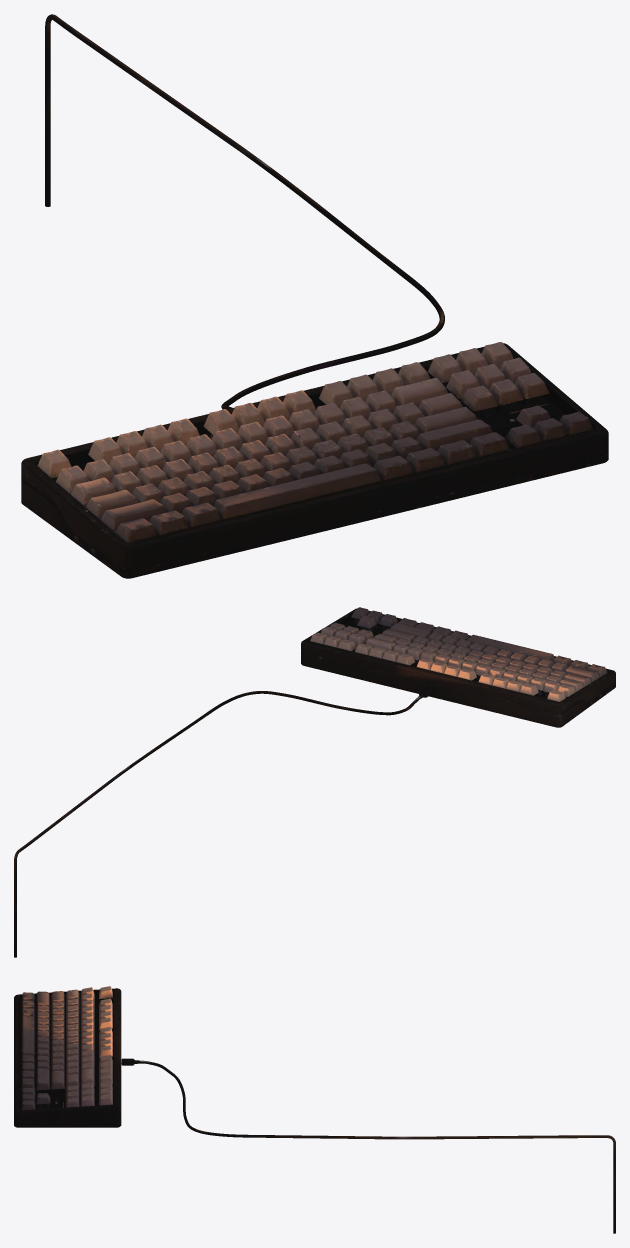
The model's file is keyboard.glb.
The picture shows the model from 3 angles, top to bottom: view 1: azimuth 30°, elevation 25°; view 2: azimuth 150°, elevation 25°; view 3: azimuth 270°, elevation 25°; orthographic projection. The views are drawn at different scales.
Parts seen in each view (by area): view 1: NEW_keyboard_root__mesh; view 2: NEW_keyboard_root__mesh; view 3: NEW_keyboard_root__mesh.
Part boxes in pixels (x1,y1,x2,y2): NEW_keyboard_root__mesh: (21,14,608,578); NEW_keyboard_root__mesh: (14,607,615,957); NEW_keyboard_root__mesh: (14,986,615,1233).
Bounding box in the file's own units: 0.3948 × 0.1743 × 0.7748.
2 materials, 2 textured.
